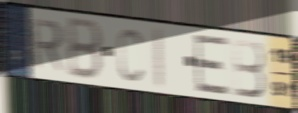B: (67, 14, 104, 83), (232, 37, 268, 100)
C: (116, 26, 145, 84)
E: (192, 33, 231, 97)
I: (152, 24, 166, 91)
R: (28, 17, 66, 73)
